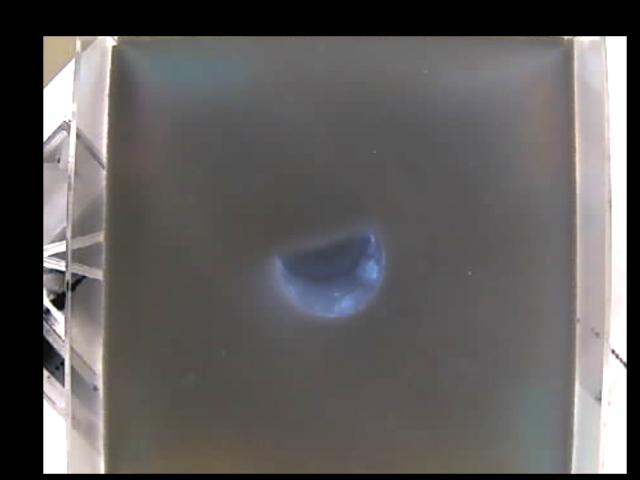Mooli: (275, 224, 386, 316)
